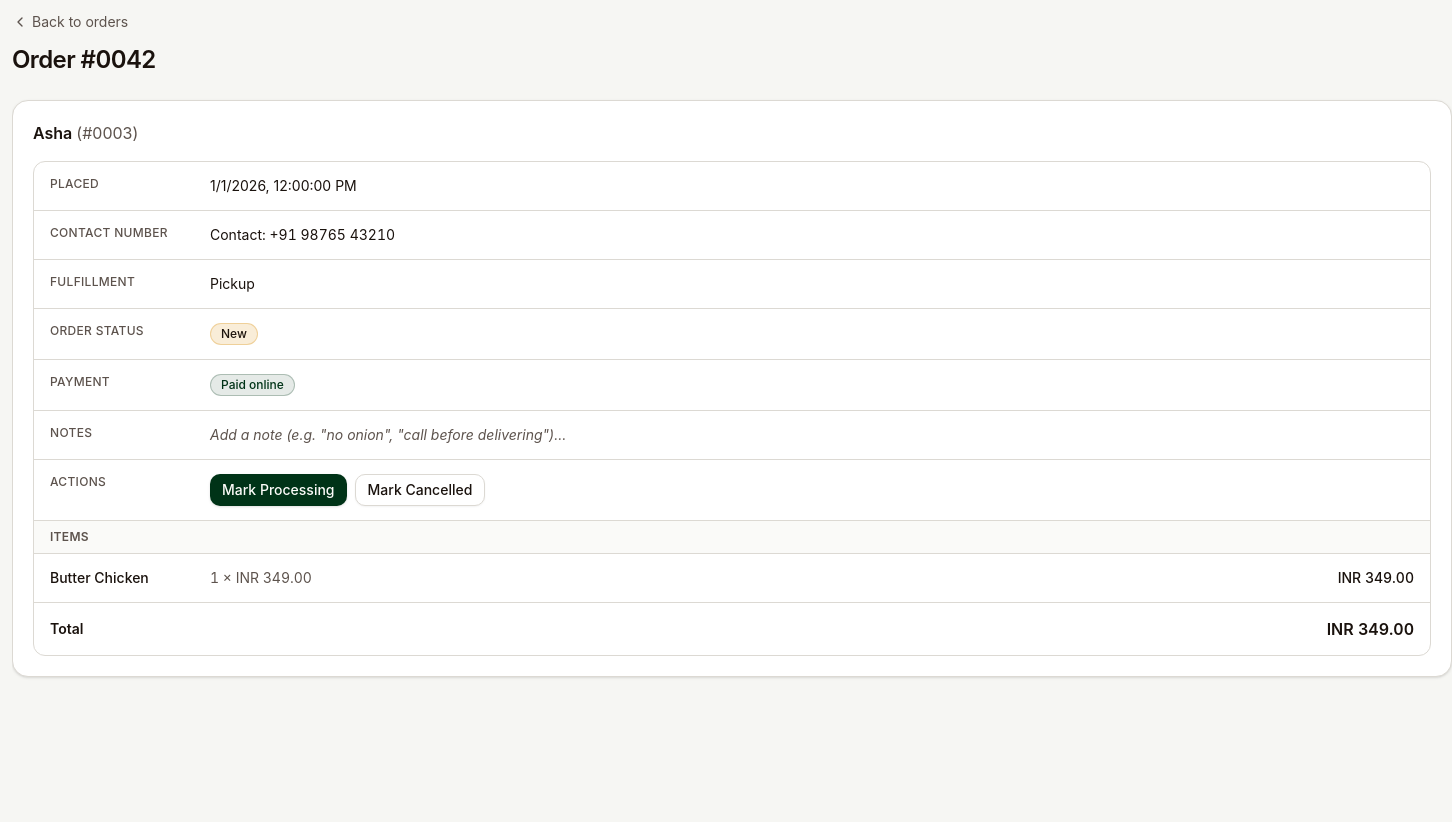
Test: OrderDetailPage › rolls back the optimistic status update when the mutation fails
The width and height of the screenshot is (1452, 822).
Expected: the text "Butter Chicken" is shown, left=34, top=554, right=194, bottom=602
Expected: the text "New" is shown, left=210, top=323, right=258, bottom=345
Step 1. Click the button "Mark Processing" → (278, 490), box left=210, top=474, right=346, bottom=506
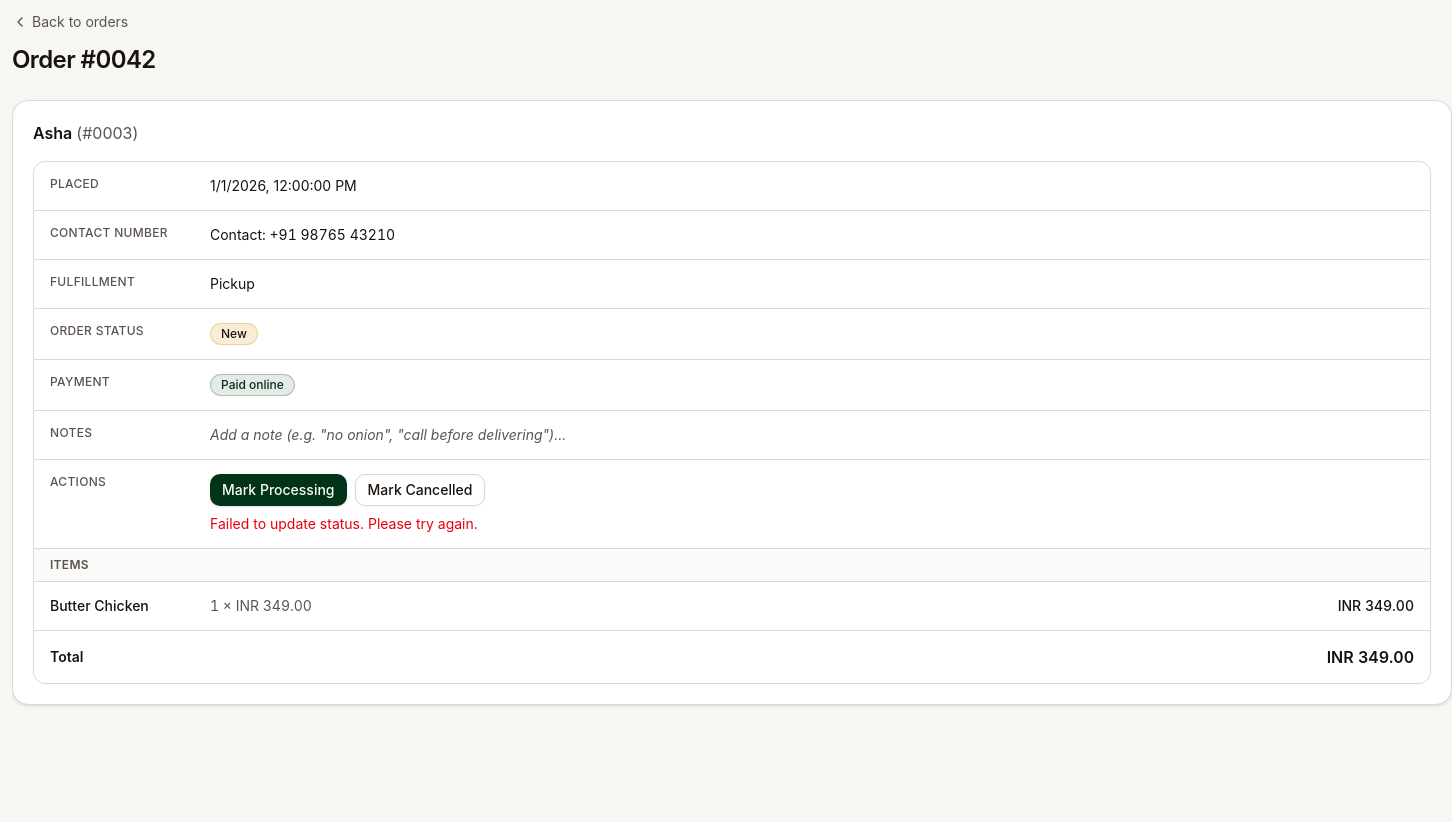
Expected: the text "New" is shown, left=210, top=323, right=258, bottom=345
Now the text "Failed to update status. Please try again." is shown, box left=210, top=515, right=478, bottom=532
